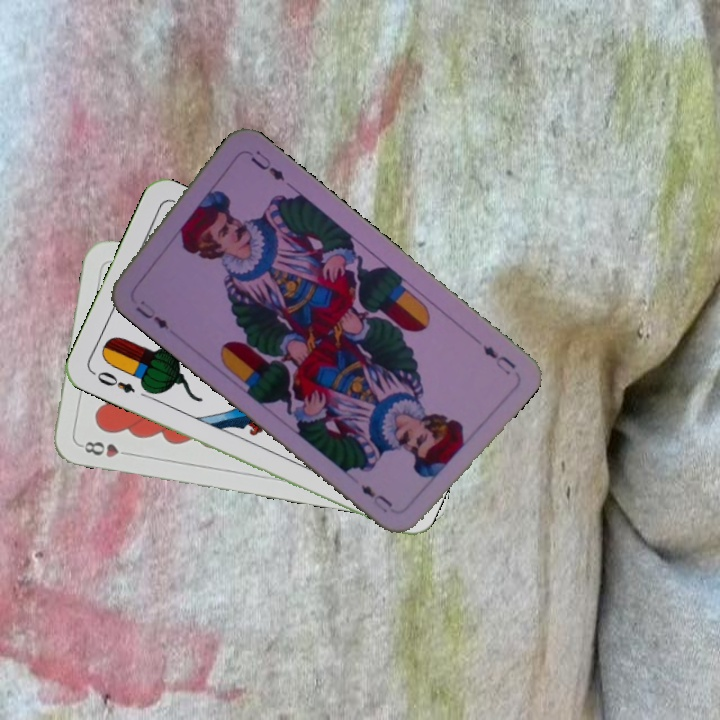EO: (88, 367, 138, 396)
EU: (478, 340, 518, 377), (131, 302, 172, 332)
H8: (76, 437, 135, 460)
